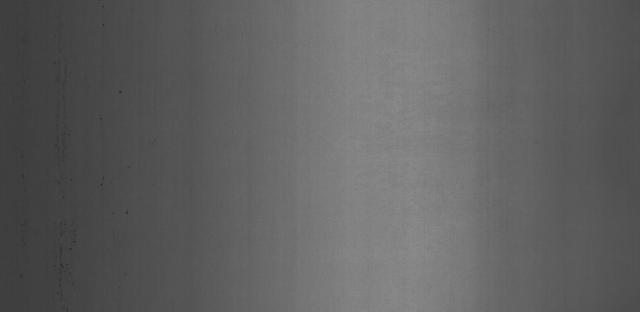inclusion: (41, 41, 78, 301), (118, 204, 134, 226), (95, 173, 111, 190), (115, 85, 124, 96)
